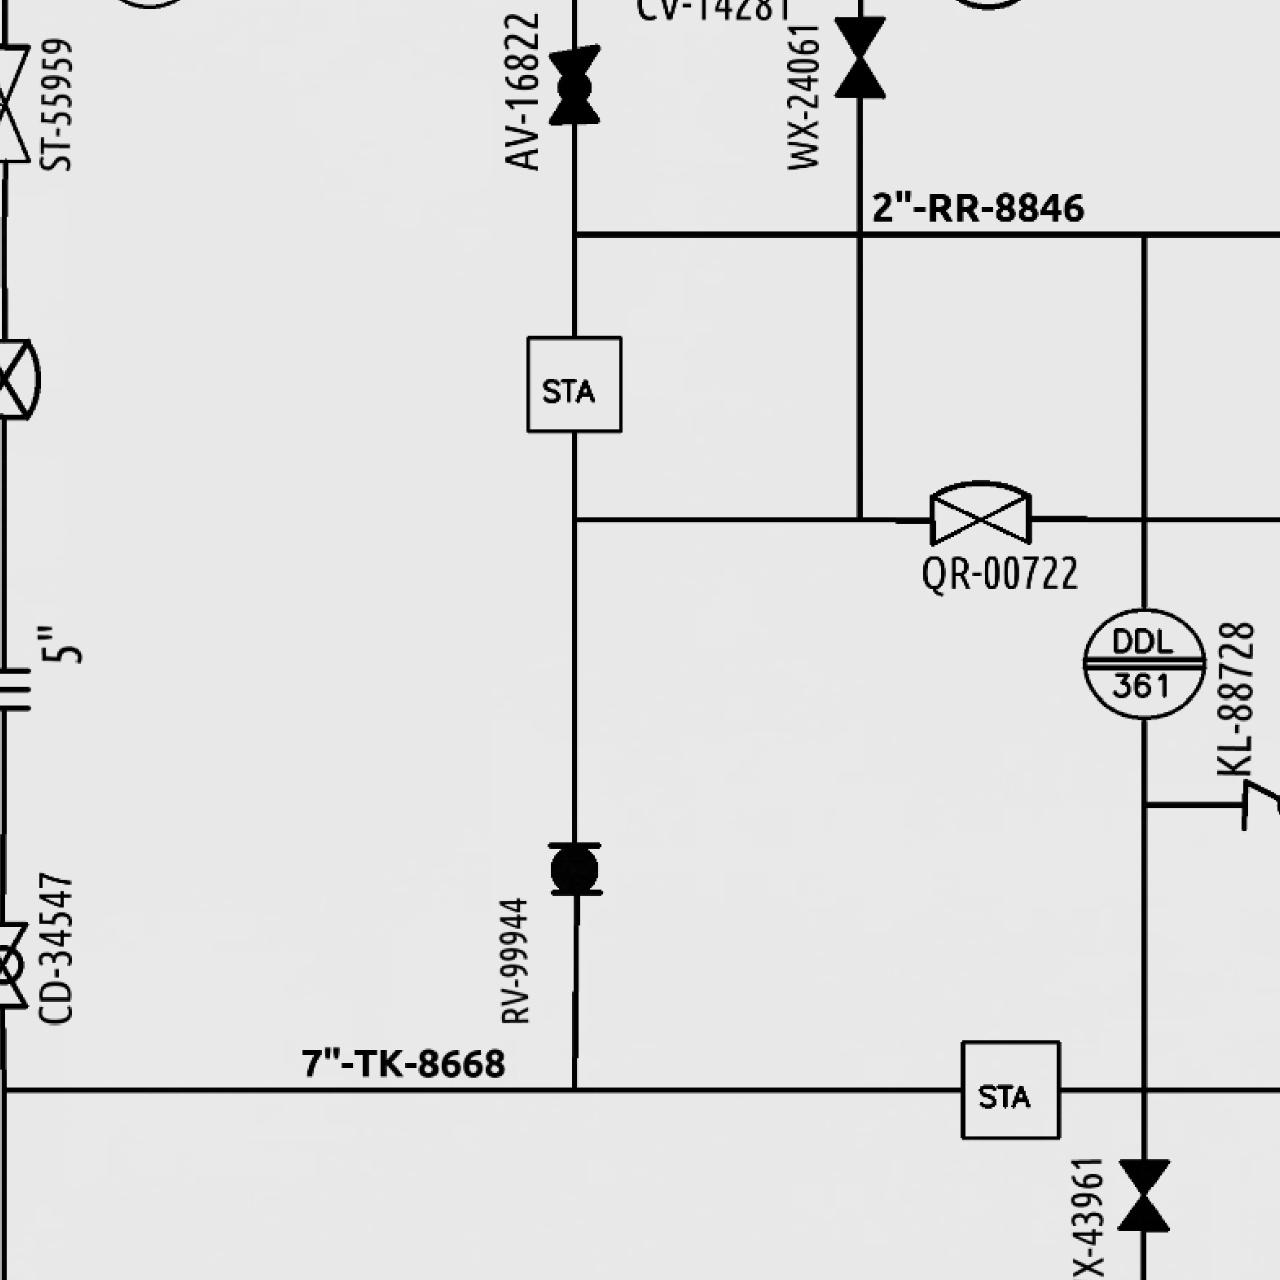Control-Panel: (1077, 597, 1208, 729)
